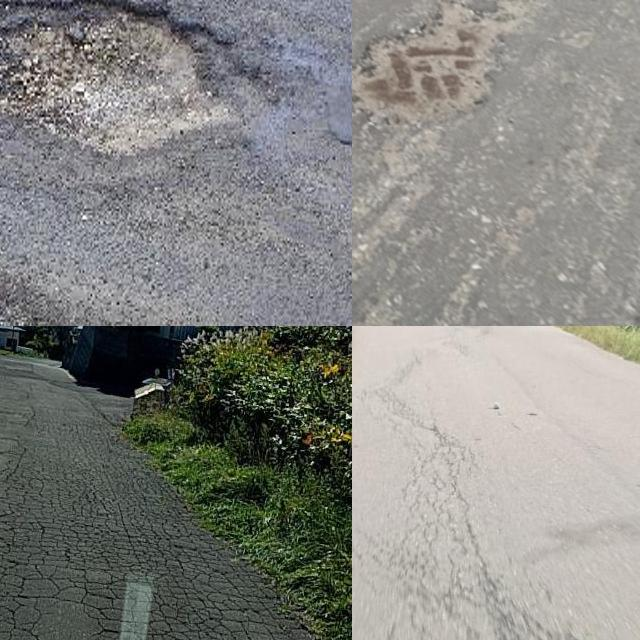Lubang: (0, 0, 274, 154), (352, 7, 503, 125)
Retak Buaya: (0, 425, 317, 640), (364, 407, 587, 640)
